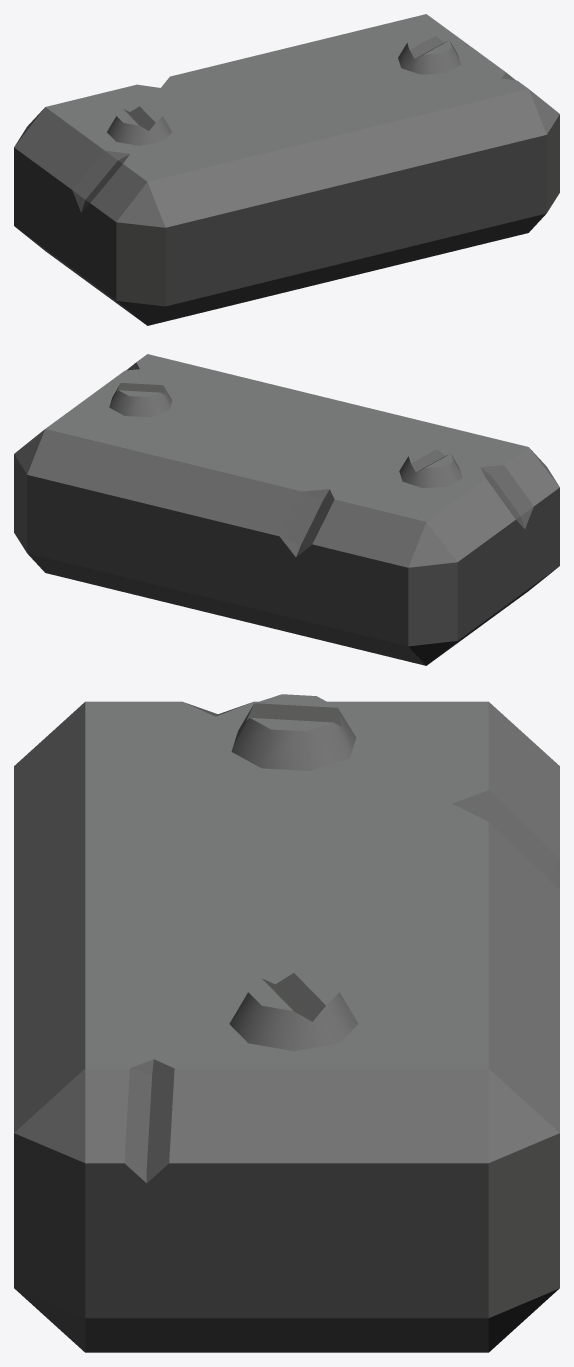
File: m_kub_metalOld_floorBrick.FBX
3 views of the same model, one above another, from view 1: azimuth 30°, elevation 25°; view 2: azimuth 150°, elevation 25°; view 3: azimuth 270°, elevation 25° (orthographic). The views are drawn at different scales.
Parts seen in each view (by area): view 1: m_kub_metalOld_floorBrick; view 2: m_kub_metalOld_floorBrick; view 3: m_kub_metalOld_floorBrick.
Boxes of the visible parts, x1,y1,x2,y2 form: m_kub_metalOld_floorBrick: (14, 14, 559, 325); m_kub_metalOld_floorBrick: (14, 354, 559, 665); m_kub_metalOld_floorBrick: (14, 694, 559, 1352).
Size of the model in its own units: 2.18 by 0.7512 by 1.18.
